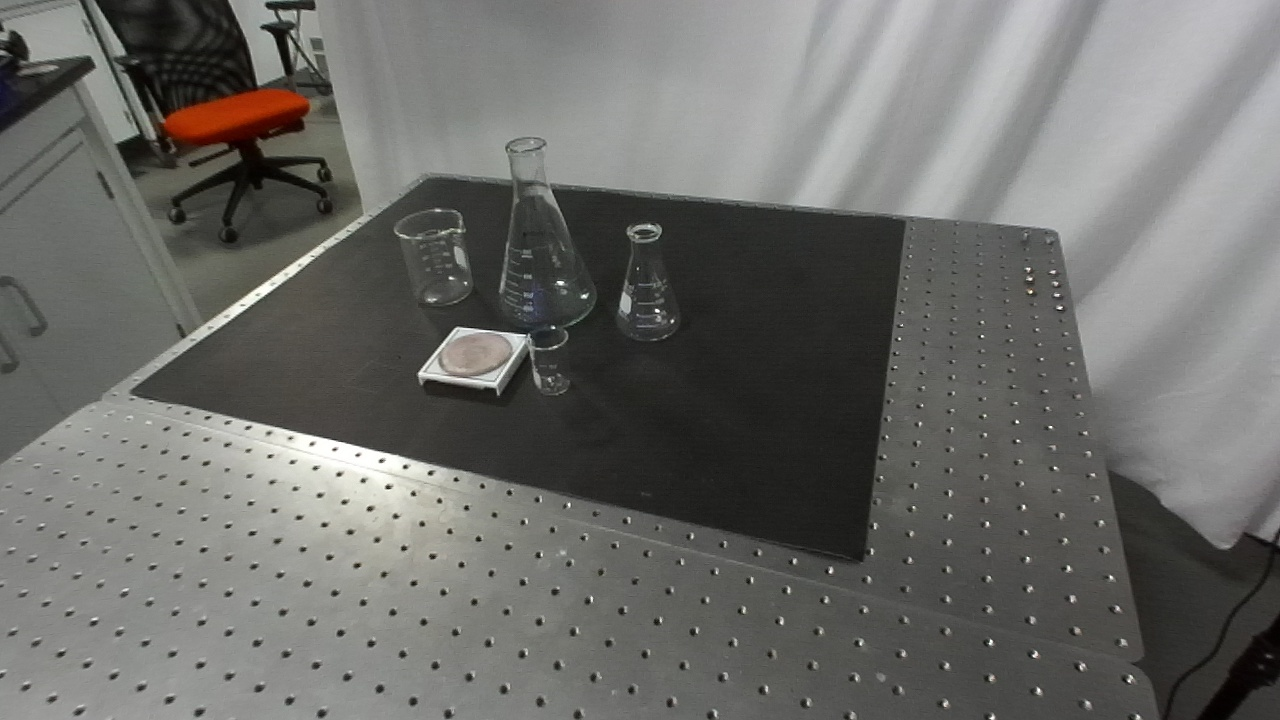glass: (491, 135, 600, 333), (389, 204, 478, 309), (610, 221, 685, 345), (525, 323, 575, 401)
plate: (412, 327, 531, 401)
